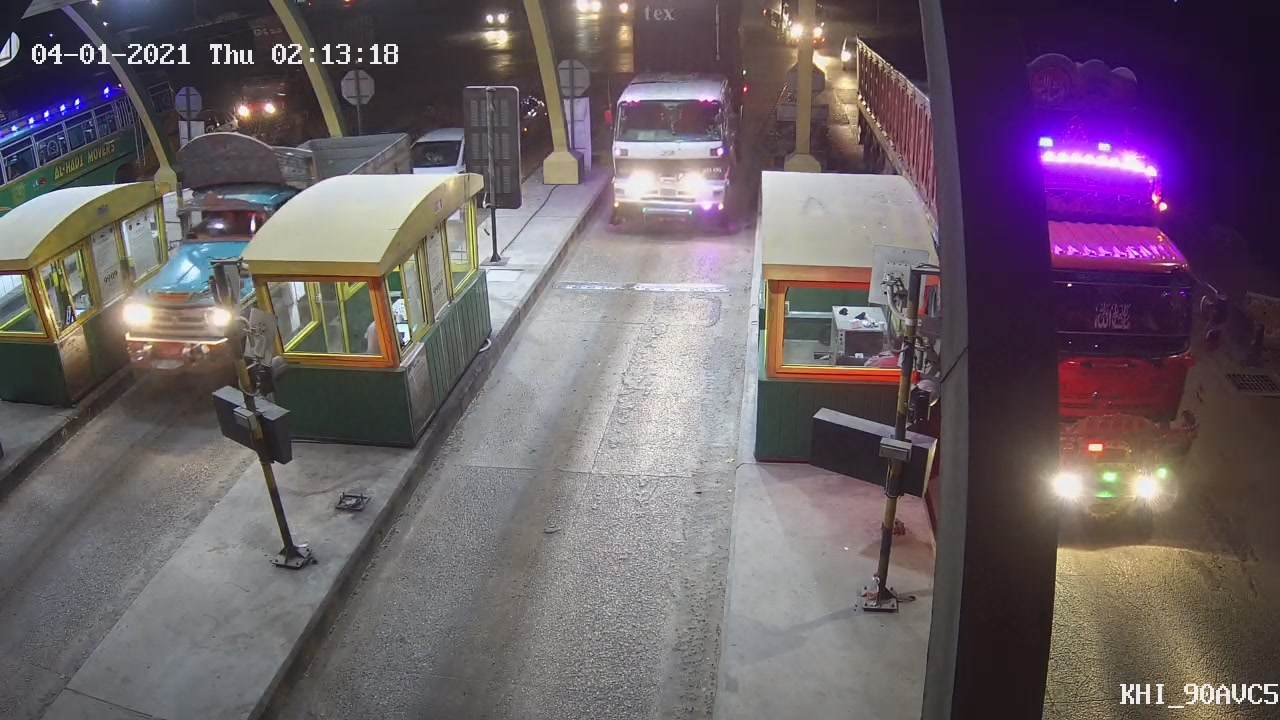F6: (599, 4, 751, 228)
